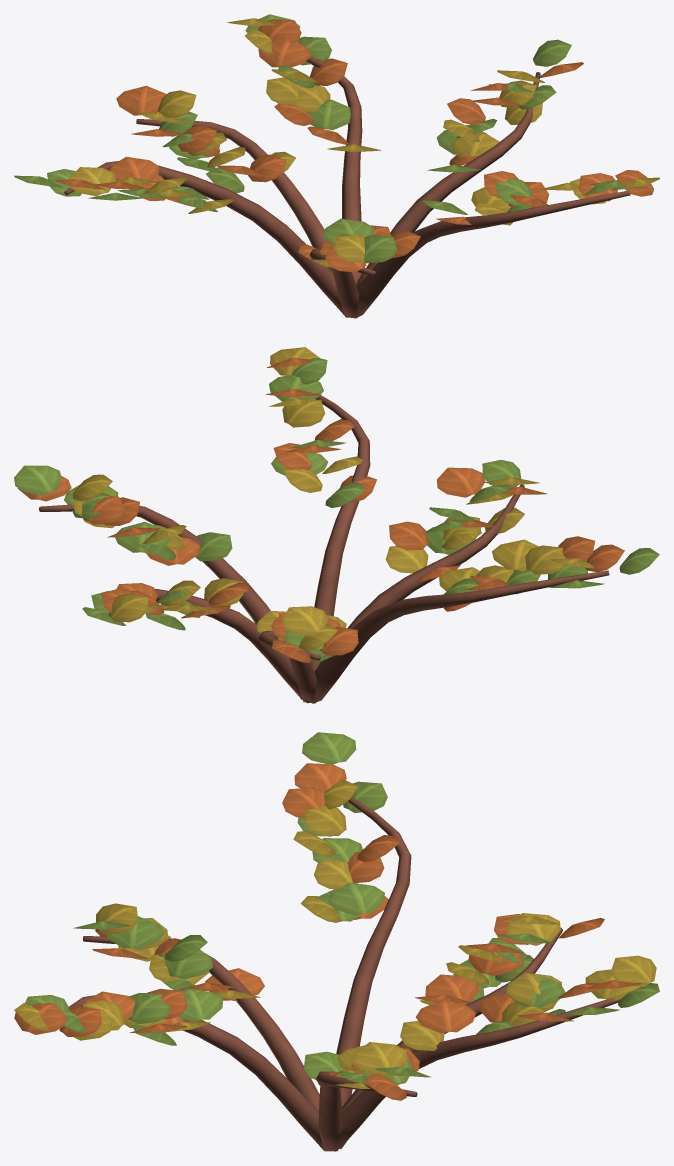
Rendered from dwarf_birch.glb.
The picture shows the model from 3 angles, top to bottom: view 1: azimuth 30°, elevation 25°; view 2: azimuth 150°, elevation 25°; view 3: azimuth 270°, elevation 25°; orthographic projection. The views are drawn at different scales.
Visible parts, largest first — view 1: DwarfBirch_leaf, DwarfBirch; view 2: DwarfBirch_leaf, DwarfBirch; view 3: DwarfBirch_leaf, DwarfBirch.
Part boxes in pixels (x1=…): DwarfBirch_leaf: x1=14, y1=14, x2=659, y2=272; DwarfBirch: x1=64, y1=56, x2=630, y2=318; DwarfBirch_leaf: x1=14, y1=347, x2=659, y2=662; DwarfBirch: x1=39, y1=395, x2=609, y2=703; DwarfBirch_leaf: x1=14, y1=732, x2=659, y2=1100; DwarfBirch: x1=69, y1=797, x2=619, y2=1151.
Bounding box in the file's own units: 1.83 × 0.6432 × 1.58.
Materials: 1 (1 with a texture image).
